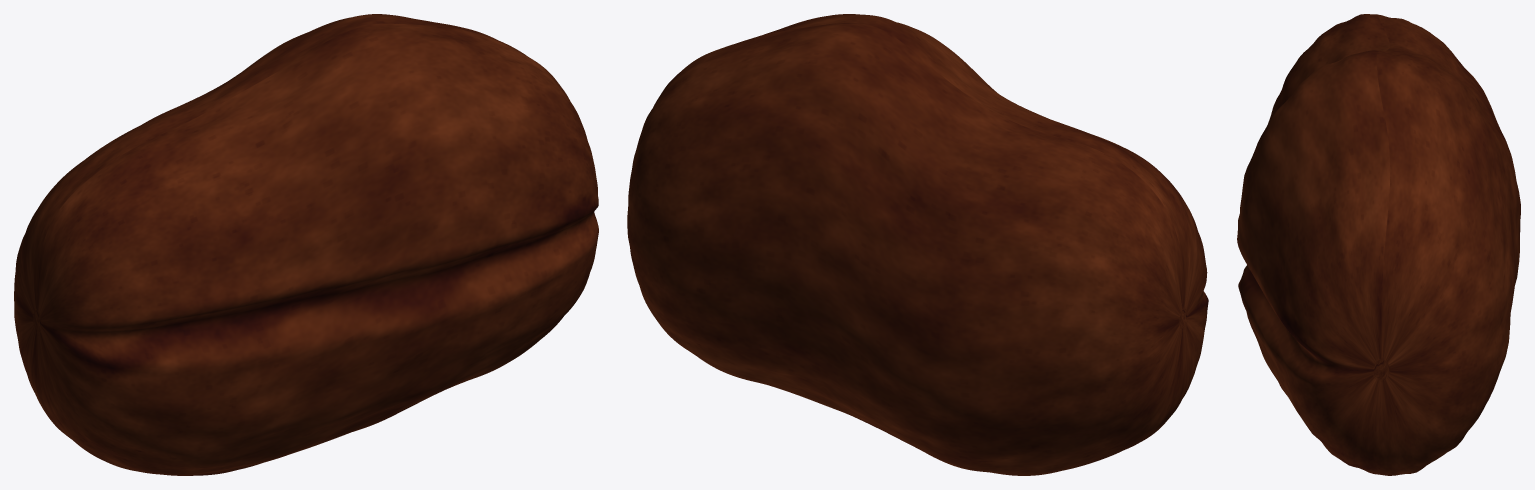
Rendered from arabica.glb.
3 renders of one model, left to right at view 1: azimuth 30°, elevation 25°; view 2: azimuth 150°, elevation 25°; view 3: azimuth 270°, elevation 25°, orthographic. The views are drawn at different scales.
Visible parts, largest first — view 1: Cafe_arabica; view 2: Cafe_arabica; view 3: Cafe_arabica.
Part boxes in pixels (x1,y1,x2,y2): Cafe_arabica: [14, 14, 598, 475]; Cafe_arabica: [627, 14, 1208, 475]; Cafe_arabica: [1237, 14, 1520, 475].
Bounding box in the file's own units: 0.012 × 0.00871 × 0.00572.
1 material, 1 textured.
